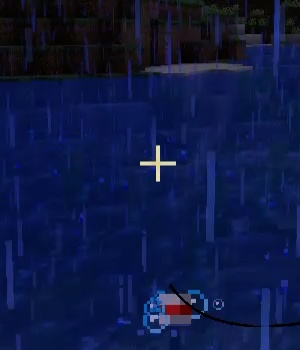up: (158, 289, 197, 329)
